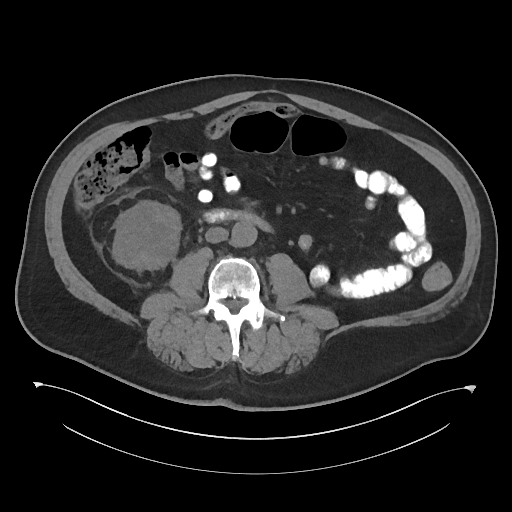Lesion: (112, 204, 178, 272)
